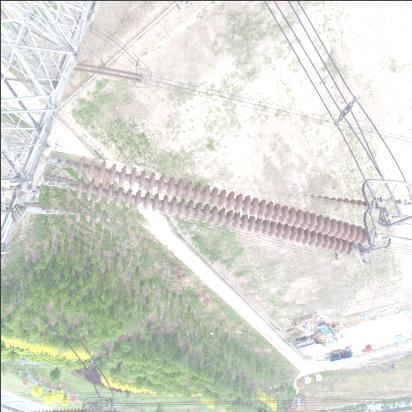insulator: (39, 164, 379, 251), (76, 65, 141, 86)
